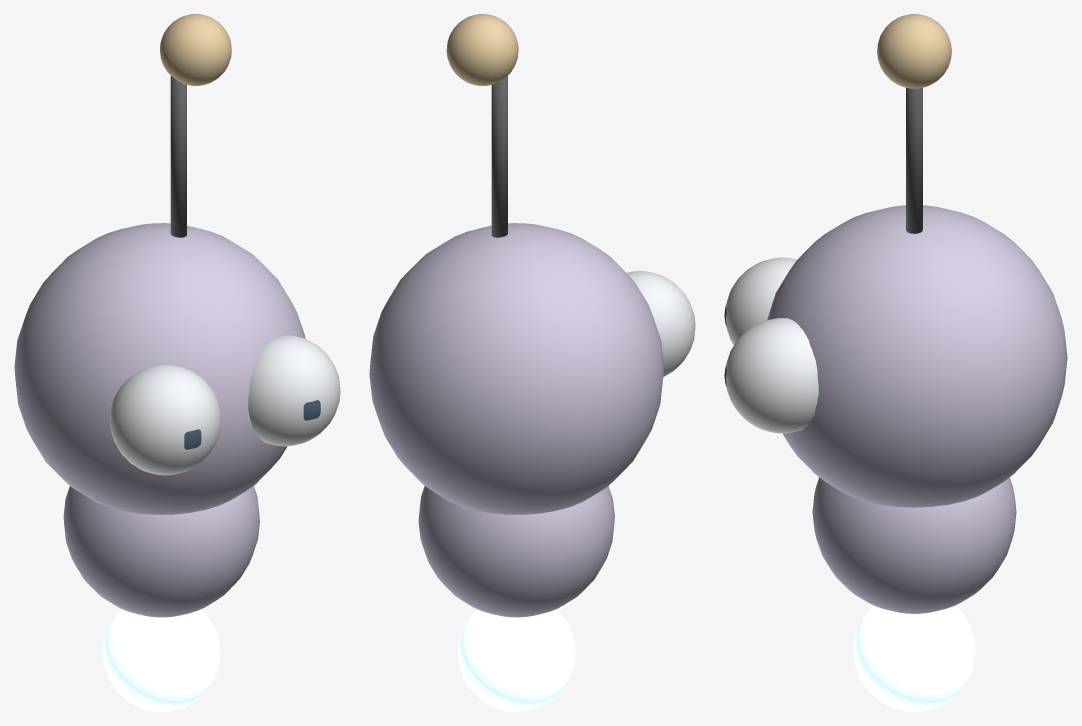
File: pip.glb
The picture shows the model from 3 angles, left to right: view 1: azimuth 30°, elevation 25°; view 2: azimuth 150°, elevation 25°; view 3: azimuth 270°, elevation 25°; orthographic projection. The views are drawn at different scales.
Parts seen in each view (by area): view 1: Pip; view 2: Pip; view 3: Pip.
Part boxes in pixels (left/top/right/bottom): Pip: left=14, top=14, right=340, bottom=711; Pip: left=369, top=14, right=695, bottom=711; Pip: left=724, top=14, right=1067, bottom=711.
Size of the model in its own units: 0.09 by 0.229 by 0.1009.
